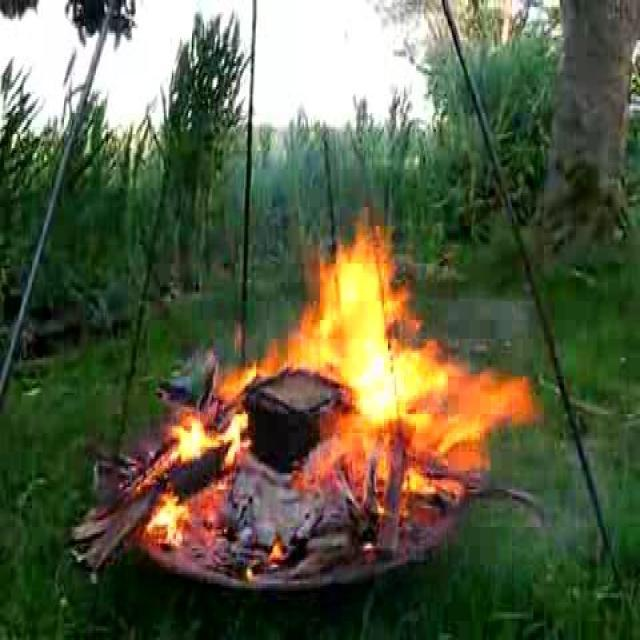Fire: (300, 242, 506, 459), (162, 370, 248, 536)
